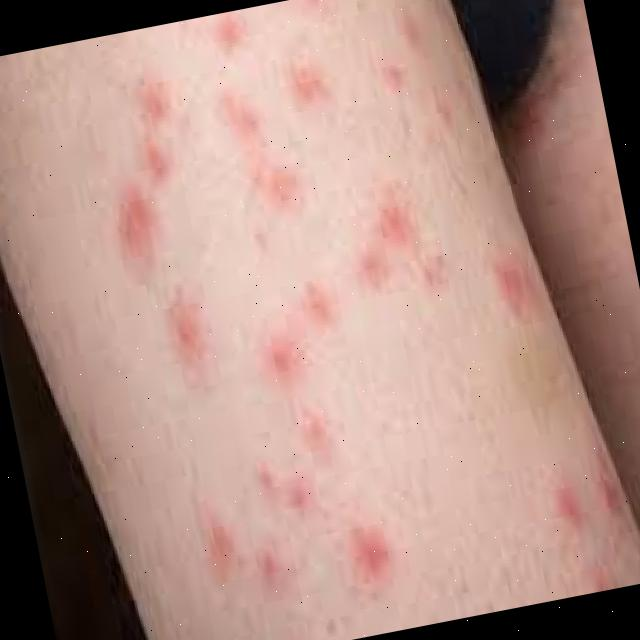kan emici bocekler: (143, 307, 227, 380), (108, 174, 164, 283), (247, 321, 311, 402), (487, 253, 551, 326), (272, 48, 330, 121), (217, 91, 274, 162), (538, 473, 592, 545), (345, 518, 396, 591), (257, 162, 305, 233), (281, 466, 328, 530), (301, 271, 343, 342), (291, 398, 336, 463), (205, 12, 252, 73), (594, 448, 629, 524), (202, 519, 244, 579), (380, 204, 423, 260), (357, 243, 387, 302), (142, 84, 175, 136), (262, 538, 287, 604), (146, 142, 176, 191), (377, 55, 408, 102)
